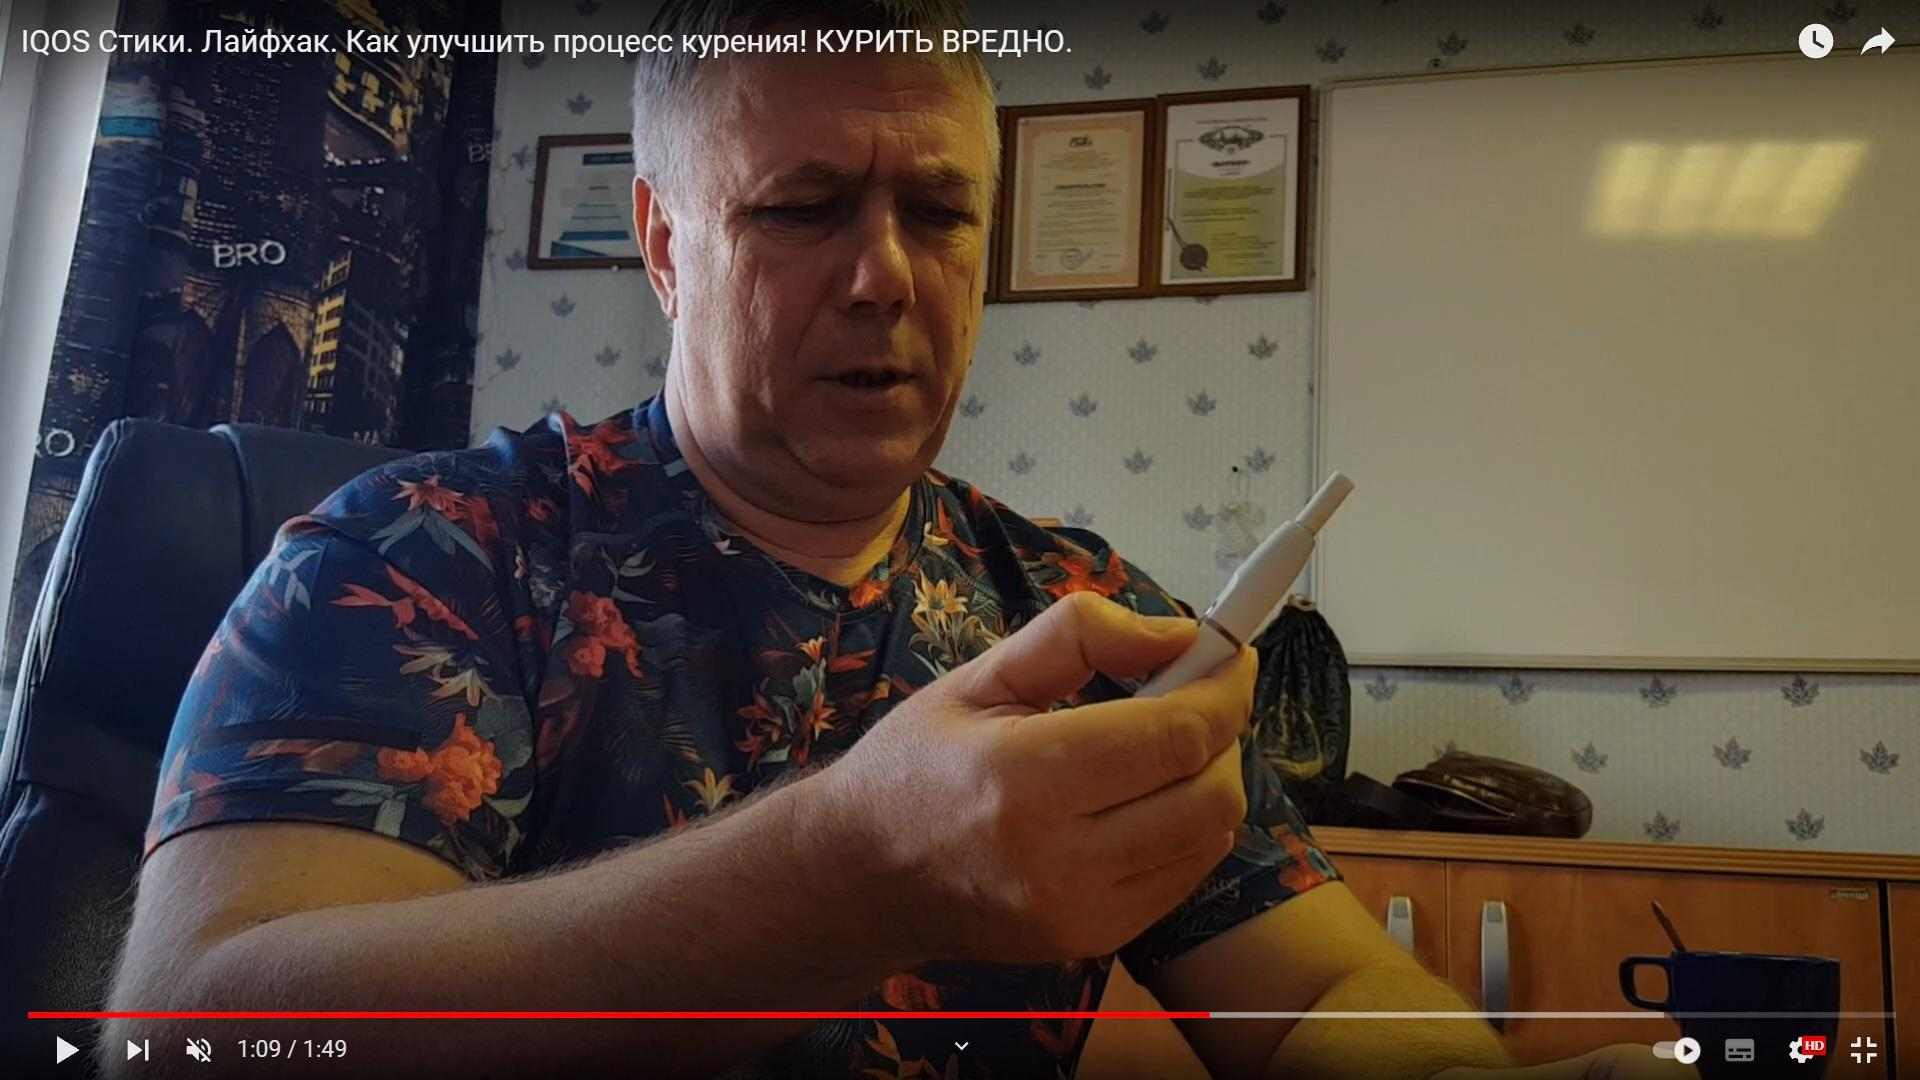iqos: (1133, 469, 1354, 698)
